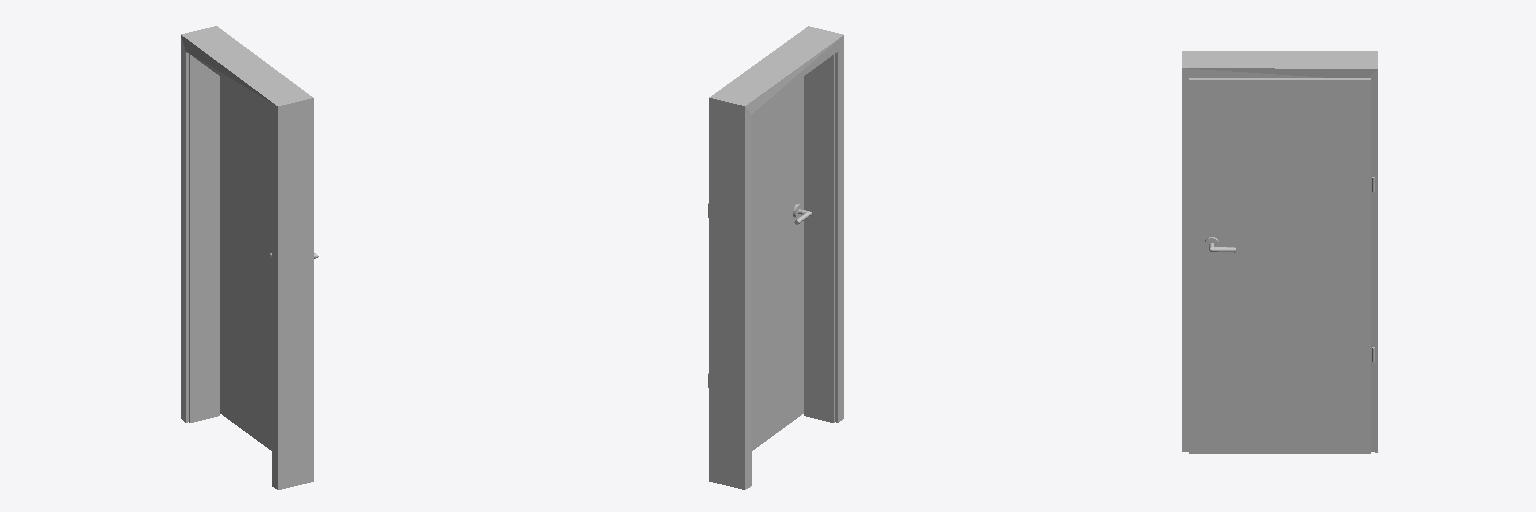
Rendered from door10.obj.
3 renders of one model, left to right at view 1: azimuth 30°, elevation 25°; view 2: azimuth 150°, elevation 25°; view 3: azimuth 270°, elevation 25°, orthographic.
Parts seen in each view (by area): view 1: Cylinder.005, Cylinder.001; view 2: Cylinder.005, Cylinder.001; view 3: Cylinder.001, Cylinder.005.
Boxes of the visible parts, x1=… form: Cylinder.005: x1=181, y1=26, x2=313, y2=489; Cylinder.001: x1=220, y1=77, x2=271, y2=450; Cylinder.005: x1=708, y1=26, x2=843, y2=489; Cylinder.001: x1=708, y1=77, x2=803, y2=450; Cylinder.001: x1=1189, y1=78, x2=1374, y2=453; Cylinder.005: x1=1182, y1=51, x2=1377, y2=452.
Size of the model in its own units: 0.3039 by 2.05 by 0.95.